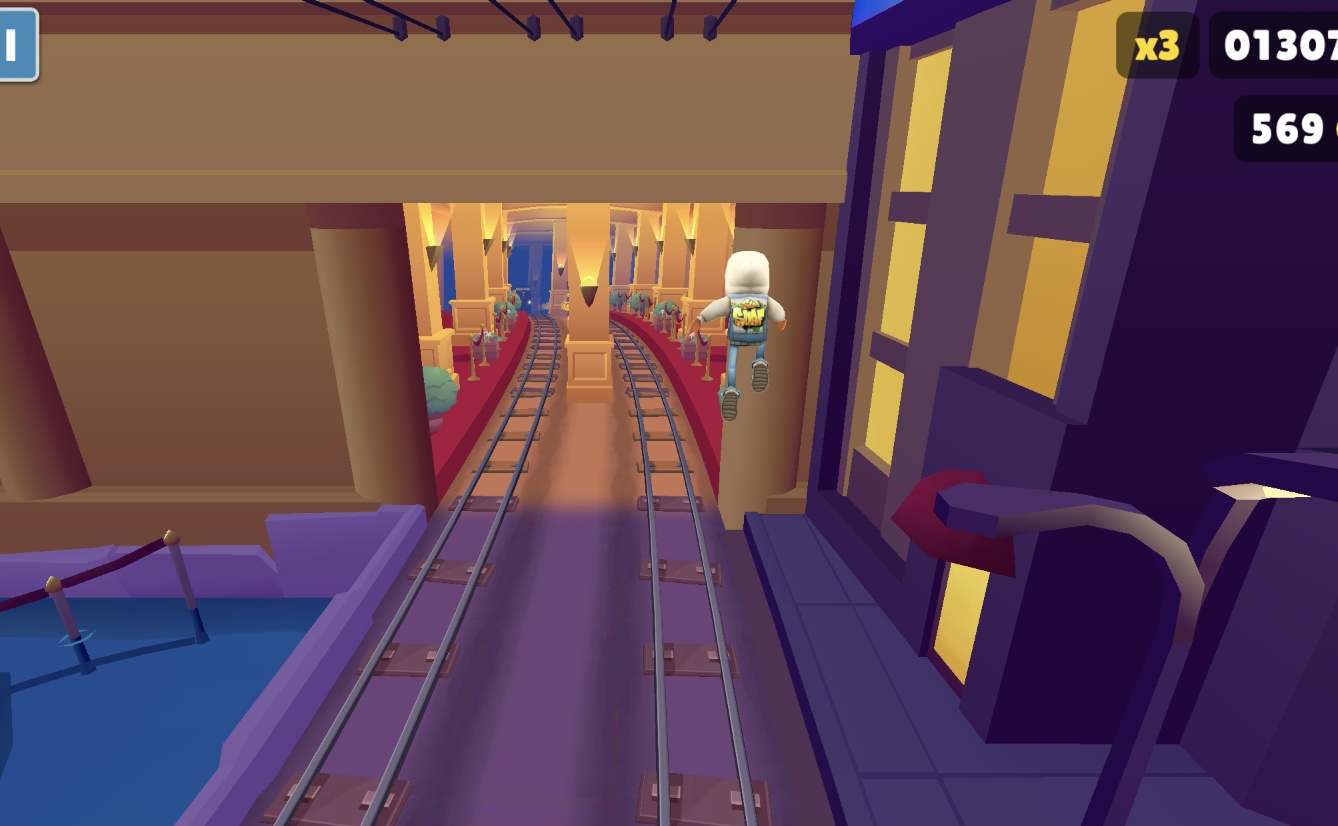pillar: (562, 205, 614, 397)
